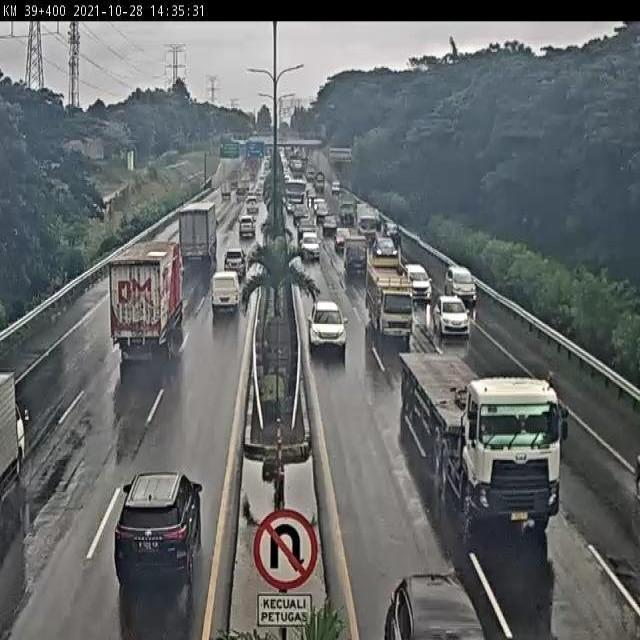big truck: (400, 351, 563, 538), (112, 242, 185, 362), (176, 206, 216, 266), (284, 173, 306, 210)
car: (117, 473, 203, 587), (383, 570, 486, 640), (311, 301, 346, 348), (433, 298, 468, 338), (209, 280, 238, 323), (445, 268, 476, 304), (408, 266, 432, 302), (345, 238, 369, 270), (219, 253, 245, 280), (300, 231, 320, 256), (381, 217, 400, 243), (373, 236, 395, 257), (234, 220, 253, 244), (334, 224, 349, 251), (292, 204, 308, 221), (297, 219, 313, 236), (315, 201, 328, 220), (323, 215, 336, 233), (245, 200, 257, 217)
small truck: (366, 262, 414, 342), (0, 368, 26, 504), (356, 204, 377, 236), (339, 198, 354, 218), (219, 181, 232, 200)
